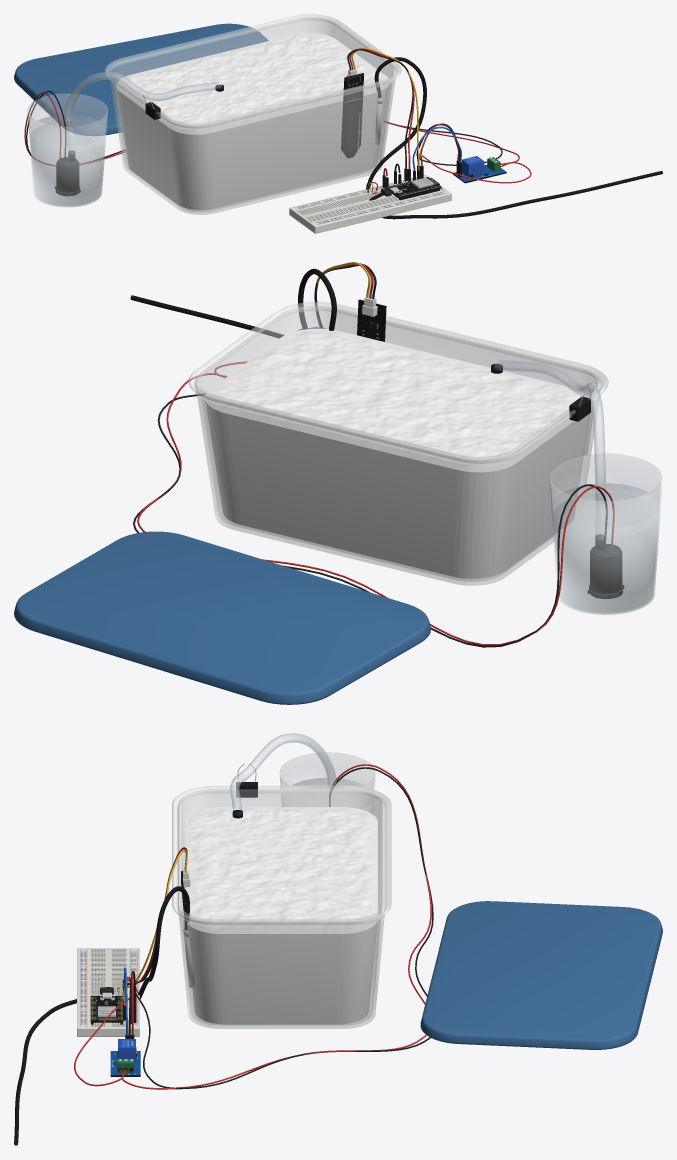
The model's file is farmhand.glb.
The picture shows the model from 3 angles, top to bottom: view 1: azimuth 30°, elevation 25°; view 2: azimuth 150°, elevation 25°; view 3: azimuth 270°, elevation 25°; orthographic projection. The views are drawn at different scales.
Parts seen in each view (by area): view 1: Soil, Pot, Lid, Cup, Water, Breadboard, Wires, Rim, Tube, Probe, UsbCable, Pump (+2 smaller); view 2: Soil, Pot, Lid, Cup, Water, Rim, Wires, Tube, Pump, Probe, UsbCable; view 3: Soil, Lid, Pot, Wires, Rim, Breadboard, Cup, Tube, Relay, ESP32, UsbCable.
Part boxes in pixels (bbox=[...]): Soil: bbox=[116, 33, 389, 209]; Pot: bbox=[109, 17, 396, 214]; Lid: bbox=[14, 23, 268, 135]; Cup: bbox=[28, 93, 107, 207]; Water: bbox=[30, 114, 104, 205]; Breadboard: bbox=[289, 174, 451, 233]; Wires: bbox=[24, 47, 531, 194]; Rim: bbox=[104, 14, 401, 129]; Tube: bbox=[64, 72, 221, 153]; Probe: bbox=[341, 68, 363, 158]; UsbCable: bbox=[369, 171, 662, 219]; Pump: bbox=[55, 151, 80, 195]; Soil: bbox=[205, 328, 591, 578]; Pot: bbox=[195, 306, 601, 585]; Lid: bbox=[14, 531, 430, 704]; Cup: bbox=[549, 454, 662, 614]; Water: bbox=[553, 483, 659, 612]; Rim: bbox=[188, 302, 608, 465]; Wires: bbox=[133, 262, 614, 647]; Tube: bbox=[495, 359, 605, 539]; Pump: bbox=[588, 534, 623, 598]; Probe: bbox=[357, 297, 386, 341]; UsbCable: bbox=[130, 295, 284, 338]; Soil: bbox=[185, 807, 377, 1024]; Lid: bbox=[420, 901, 662, 1049]; Pot: bbox=[178, 789, 385, 1028]; Wires: bbox=[74, 764, 433, 1089]; Rim: bbox=[172, 785, 391, 926]; Breadboard: bbox=[77, 948, 139, 1036]; Cup: bbox=[279, 752, 376, 813]; Tube: bbox=[230, 733, 336, 810]; Relay: bbox=[110, 1039, 140, 1076]; ESP32: bbox=[90, 992, 123, 1024]; UsbCable: bbox=[14, 987, 113, 1145].
Size of the model in its own units: 6.02 by 1.72 by 5.62.
Materials: 41 (7 with a texture image).
